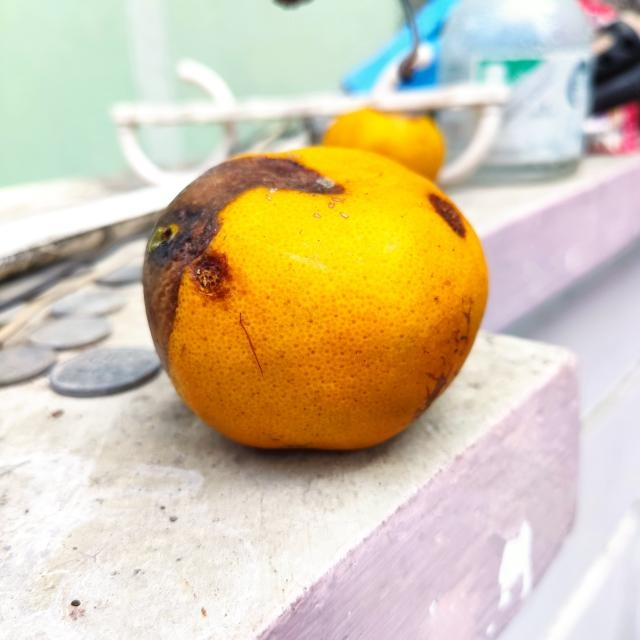agrume: (140, 143, 489, 455)
